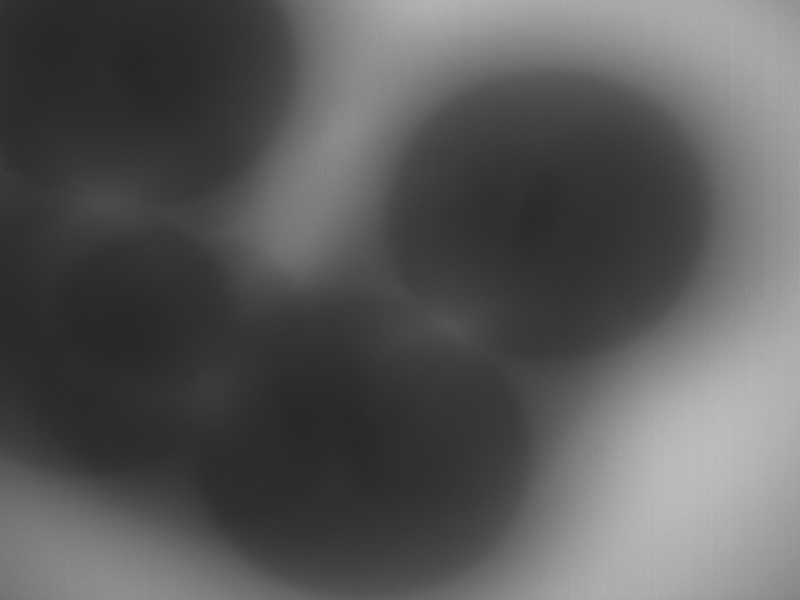bead: (201, 293, 536, 599), (382, 65, 718, 360), (1, 205, 245, 476), (1, 1, 298, 207)
